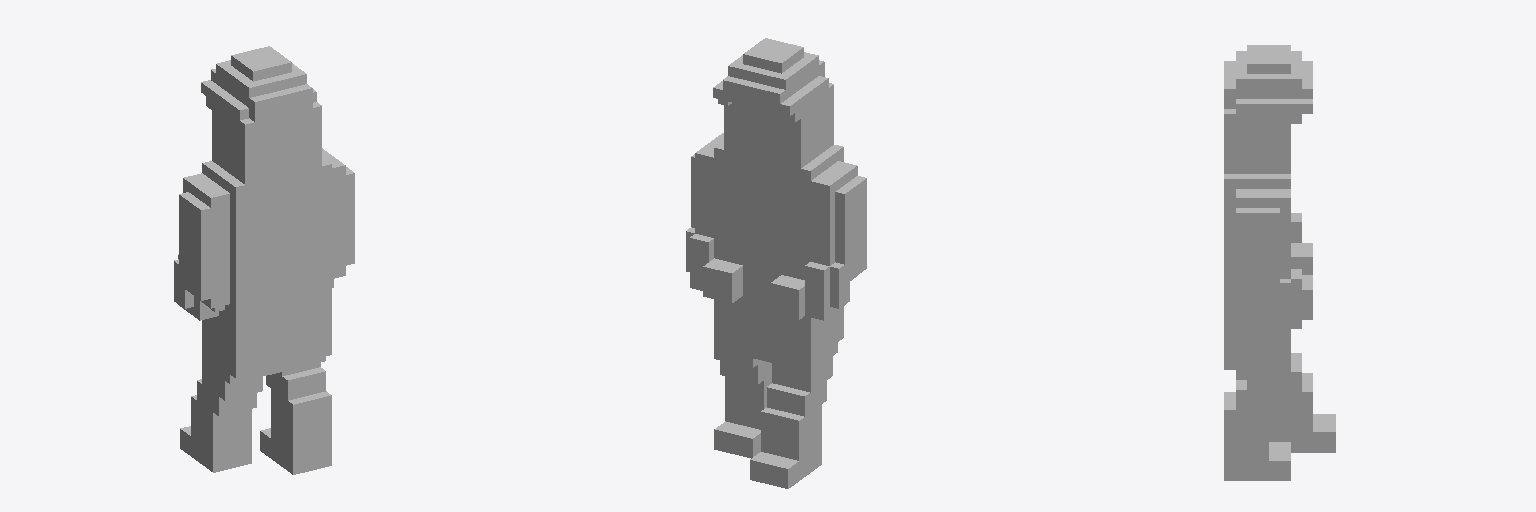
File: player-0.obj
3 renders of one model, left to right at view 1: azimuth 30°, elevation 25°; view 2: azimuth 150°, elevation 25°; view 3: azimuth 270°, elevation 25°, orthographic.
Visible parts, largest first — view 1: object 1; view 2: object 1; view 3: object 1.
Boxes of the visible parts, box(x1,y1,x2,y2) form: object 1: box(174, 46, 354, 474); object 1: box(686, 38, 866, 488); object 1: box(1224, 45, 1335, 480).
Size of the model in its own units: 1.6 by 4 by 1.